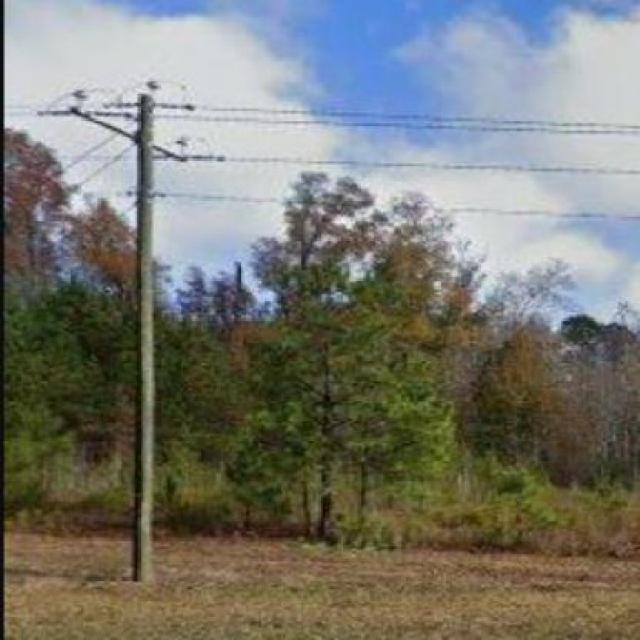pole: (66, 70, 206, 576)
